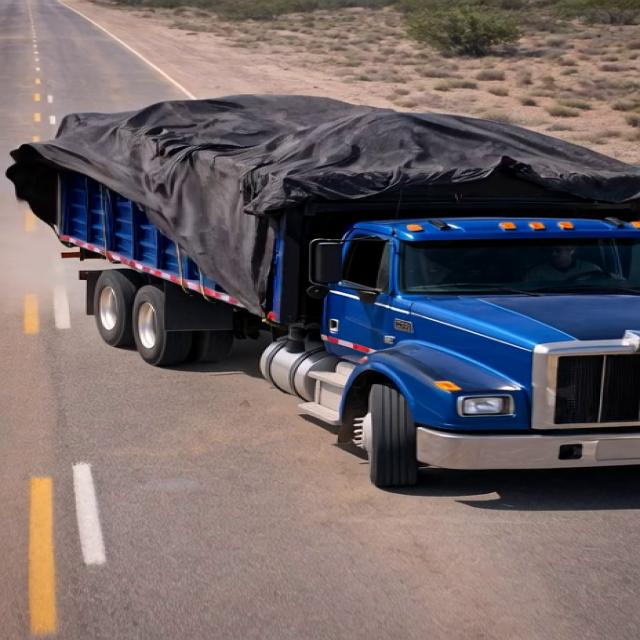Box: (16, 92, 631, 190)
Truck: (3, 63, 640, 492)
